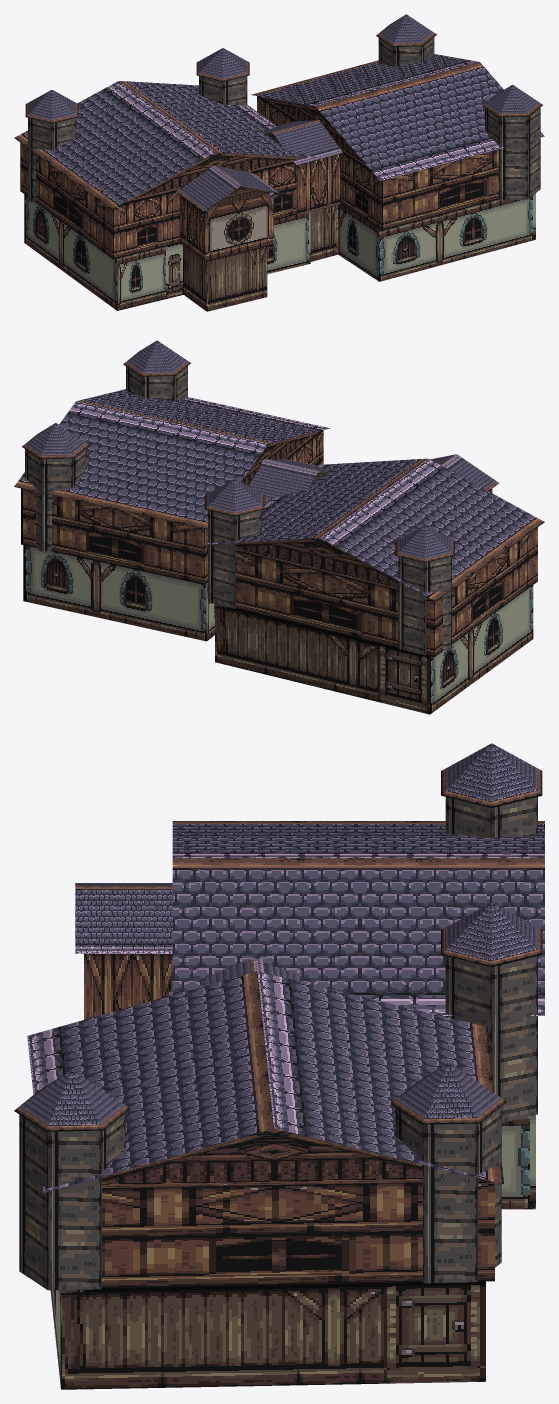
File: house_large_cluster.glb
3 views of the same model, one above another, from view 1: azimuth 30°, elevation 25°; view 2: azimuth 150°, elevation 25°; view 3: azimuth 270°, elevation 25° (orthographic). The views are drawn at different scales.
Visible parts, largest first — view 1: House_Roof_Right.001, House_Roof_Left, House_Ground_Right.001, House_Upper_Right.001, House_Roof_Right, House_Ground_Left, House_Roof_Left.001, House_Upper_Left, House_Proj_Upper_Front, House_Ground_Front_Left, House_Upper_Front_Left, House_Proj_Ground_Front (+32 smaller); view 2: House_Roof_Left.001, House_Roof_Left, House_Ground_Back, House_Ground_Left.001, House_Upper_Back, House_Upper_Left.001, House_Roof_Right, House_Ground_Left, House_Roof_Right.001, House_Upper_Left, House_Gable_Back, House_Turret_Wall_1.001 (+18 smaller); view 3: House_Ground_Back.001, House_Roof_Right, House_Upper_Back.001, House_Roof_Right.001, House_Roof_Left.001, House_Roof_Left, House_Gable_Back.001, House_Turret_Wall_1.003, House_Turret_Wall_1.002, House_Turret_Wall_0.001, House_Proj_Roof_Right, House_Proj_Upper_Right (+18 smaller).
Part boxes in pixels (box(x1,y1,x2,y2)): House_Roof_Right.001: box(316, 62, 544, 180); House_Roof_Left: box(14, 81, 215, 209); House_Ground_Right.001: box(379, 193, 535, 281); House_Upper_Right.001: box(382, 149, 498, 230); House_Roof_Right: box(119, 81, 319, 158); House_Ground_Left: box(24, 194, 117, 310); House_Roof_Left.001: box(251, 54, 478, 106); House_Upper_Left: box(20, 143, 113, 258); House_Proj_Upper_Front: box(205, 192, 273, 261); House_Ground_Front_Left: box(117, 243, 183, 310); House_Upper_Front_Left: box(113, 191, 179, 259); House_Proj_Ground_Front: box(207, 247, 267, 311); House_Roof_Left.001: box(14, 401, 268, 528); House_Roof_Left: box(320, 458, 544, 601); House_Ground_Back: box(215, 604, 429, 714); House_Ground_Left.001: box(23, 545, 206, 641); House_Upper_Back: box(235, 550, 434, 656); House_Upper_Left.001: box(21, 488, 204, 584); House_Roof_Right: box(204, 458, 427, 544); House_Ground_Left: box(430, 585, 533, 714); House_Roof_Right.001: box(76, 389, 329, 443); House_Upper_Left: box(434, 527, 537, 656); House_Gable_Back: box(235, 538, 426, 596); House_Turret_Wall_1.001: box(208, 510, 234, 608); House_Ground_Back.001: box(61, 1281, 485, 1389); House_Roof_Right: box(172, 858, 544, 1015); House_Upper_Back.001: box(102, 1181, 494, 1288); House_Roof_Right.001: box(27, 971, 273, 1192); House_Roof_Left.001: box(257, 971, 503, 1184); House_Roof_Left: box(172, 821, 544, 858); House_Gable_Back.001: box(102, 1128, 488, 1188); House_Turret_Wall_1.003: box(424, 1123, 477, 1283); House_Turret_Wall_1.002: box(48, 1130, 100, 1290); House_Turret_Wall_0.001: box(491, 956, 537, 1122); House_Proj_Roof_Right: box(75, 886, 172, 953); House_Proj_Upper_Right: box(84, 954, 172, 1019).
Size of the model in its own units: 19.98 by 7.5 by 11.98.
4 materials, 4 textured.
